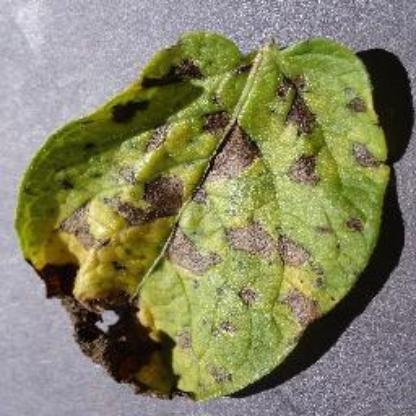Early-Blight: (16, 27, 394, 404)
